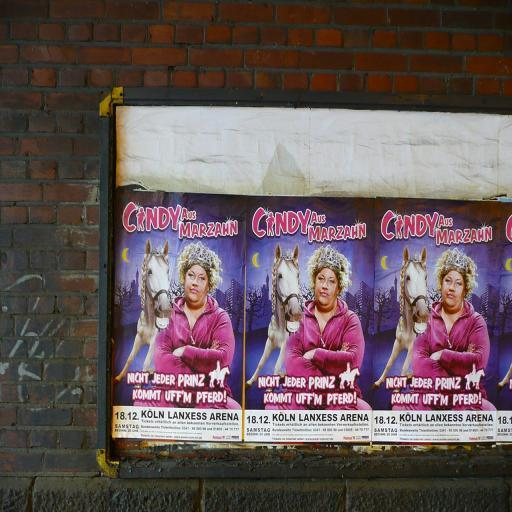horse: (243, 242, 305, 392), (114, 238, 172, 384), (374, 244, 432, 388)
